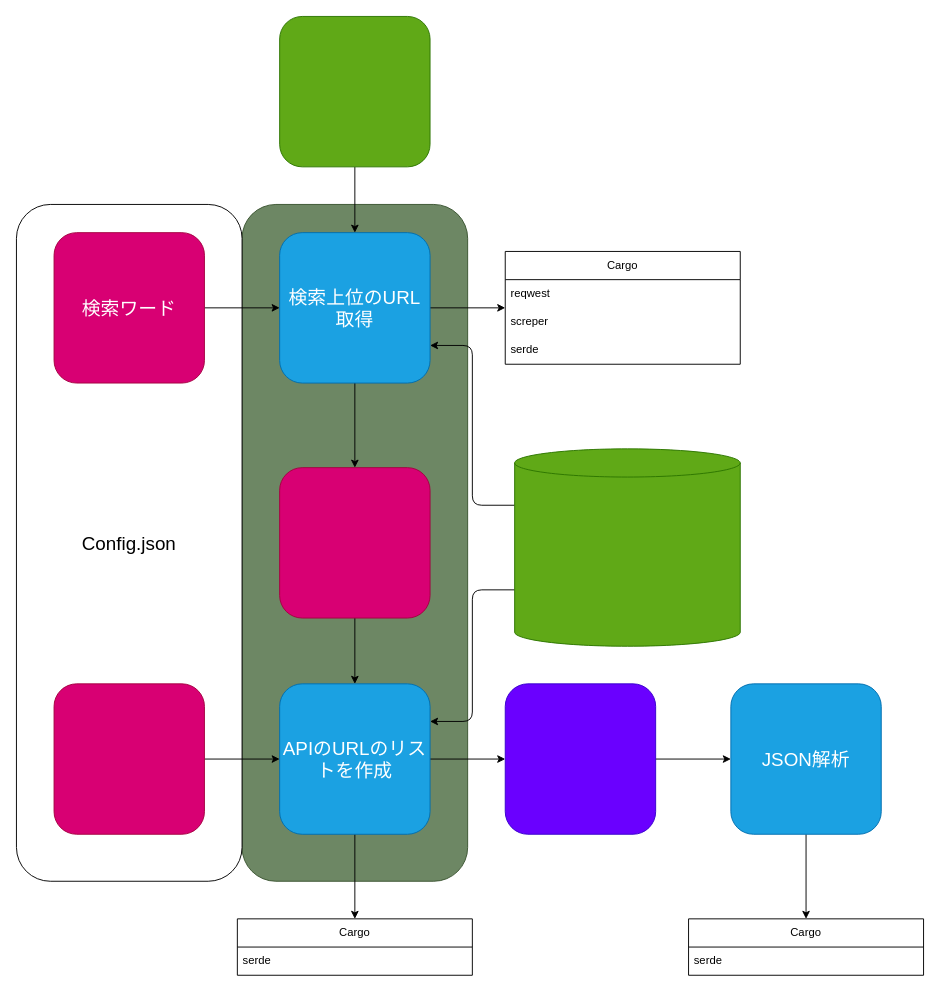
Image size: 940x992. Some labels were removed from this diagram. The shapes that lost their labels are listed below. From the top down, each one's box as (x1, y1, x2, y2) in pixels, then its label:
(279, 16, 430, 167): 実行
(279, 467, 430, 618): URLのリスト
(514, 448, 740, 646): Custom Search PageSpeed Insight
(53, 683, 204, 834): APIキー
(504, 683, 656, 834): すべてのリンク先のJSONを ダウンロード
